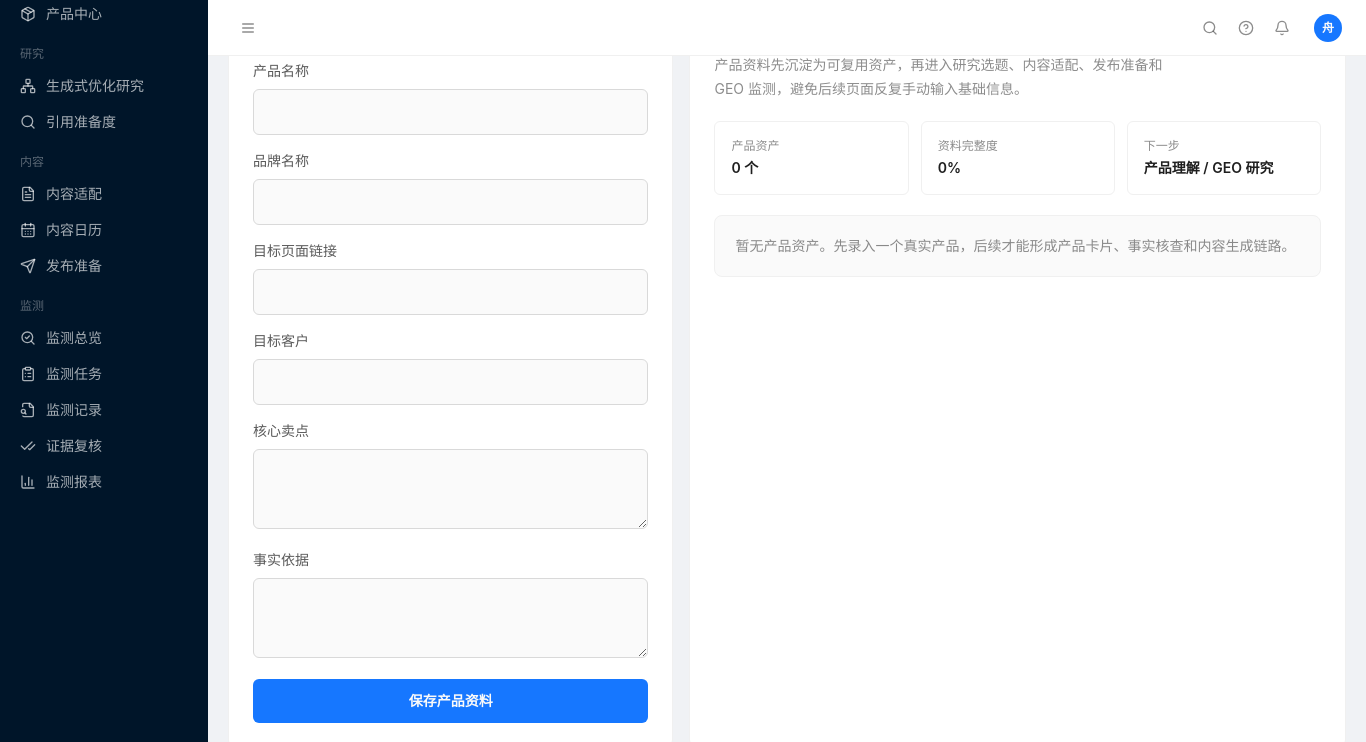
Test case: P36 产品中心 › 缺少必填资料时提示补齐而不是保存空资产
(page scrolled)
Click the button "保存产品资料" at (451, 701), box x1=253 y1=679 x2=648 y2=723
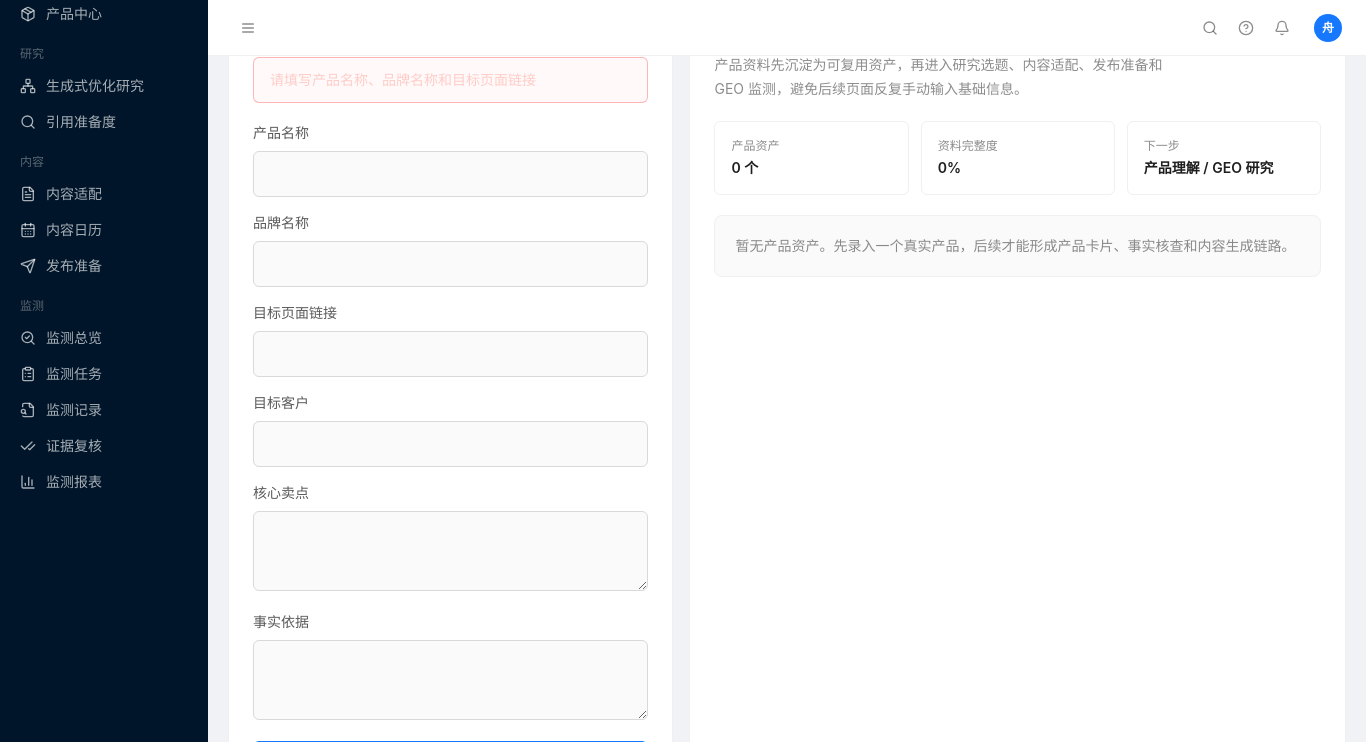
Result: the message reads "请填写产品名称、品牌名称和目标页面链接" at x1=270 y1=71 x2=536 y2=88
